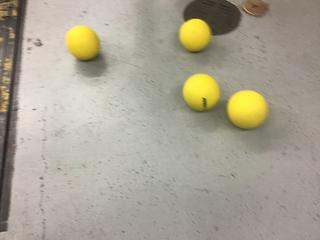power_cell: (64, 28, 105, 64), (183, 71, 218, 113), (226, 91, 267, 126), (178, 15, 211, 48)
